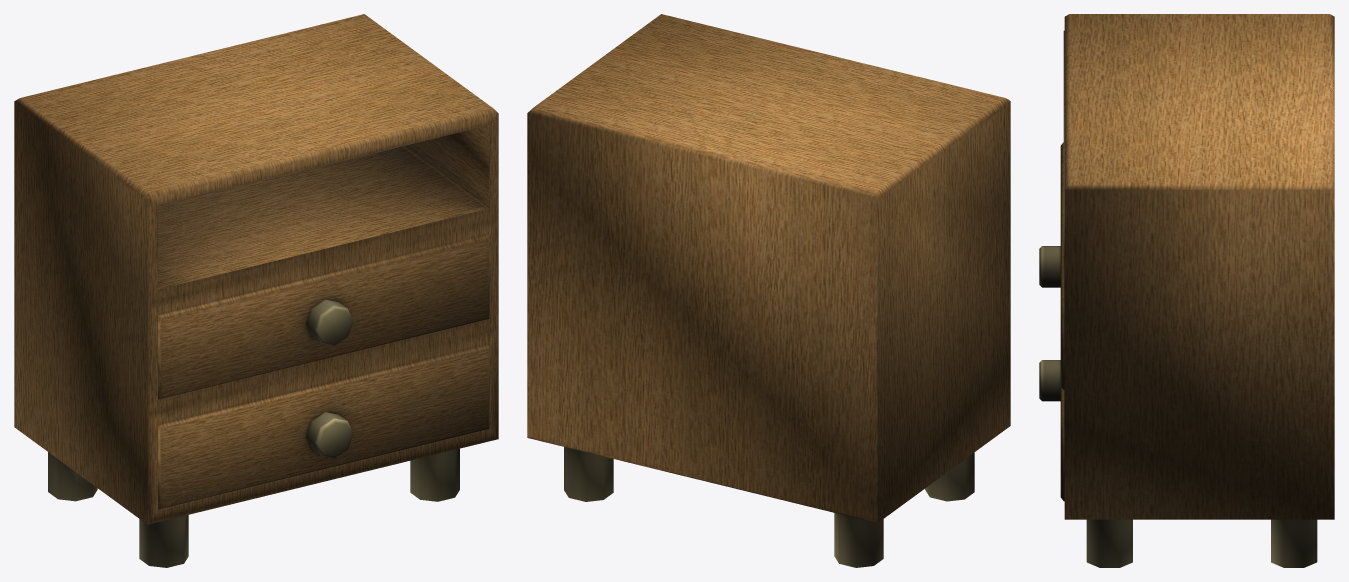
The model's file is side2.obj.
The picture shows the model from 3 angles, left to right: view 1: azimuth 30°, elevation 25°; view 2: azimuth 150°, elevation 25°; view 3: azimuth 270°, elevation 25°; orthographic projection.
Parts seen in each view (by area): view 1: kast2; view 2: kast2; view 3: kast2.
Part boxes in pixels (x1,y1,x2,y2): kast2: [14, 14, 498, 567]; kast2: [527, 14, 1010, 567]; kast2: [1039, 14, 1334, 567].
Size of the model in its own units: 106 by 112 by 76.36.
Materials: 1 (1 with a texture image).
